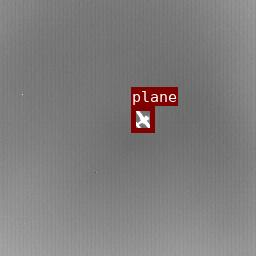plane: (131, 106, 154, 132)
